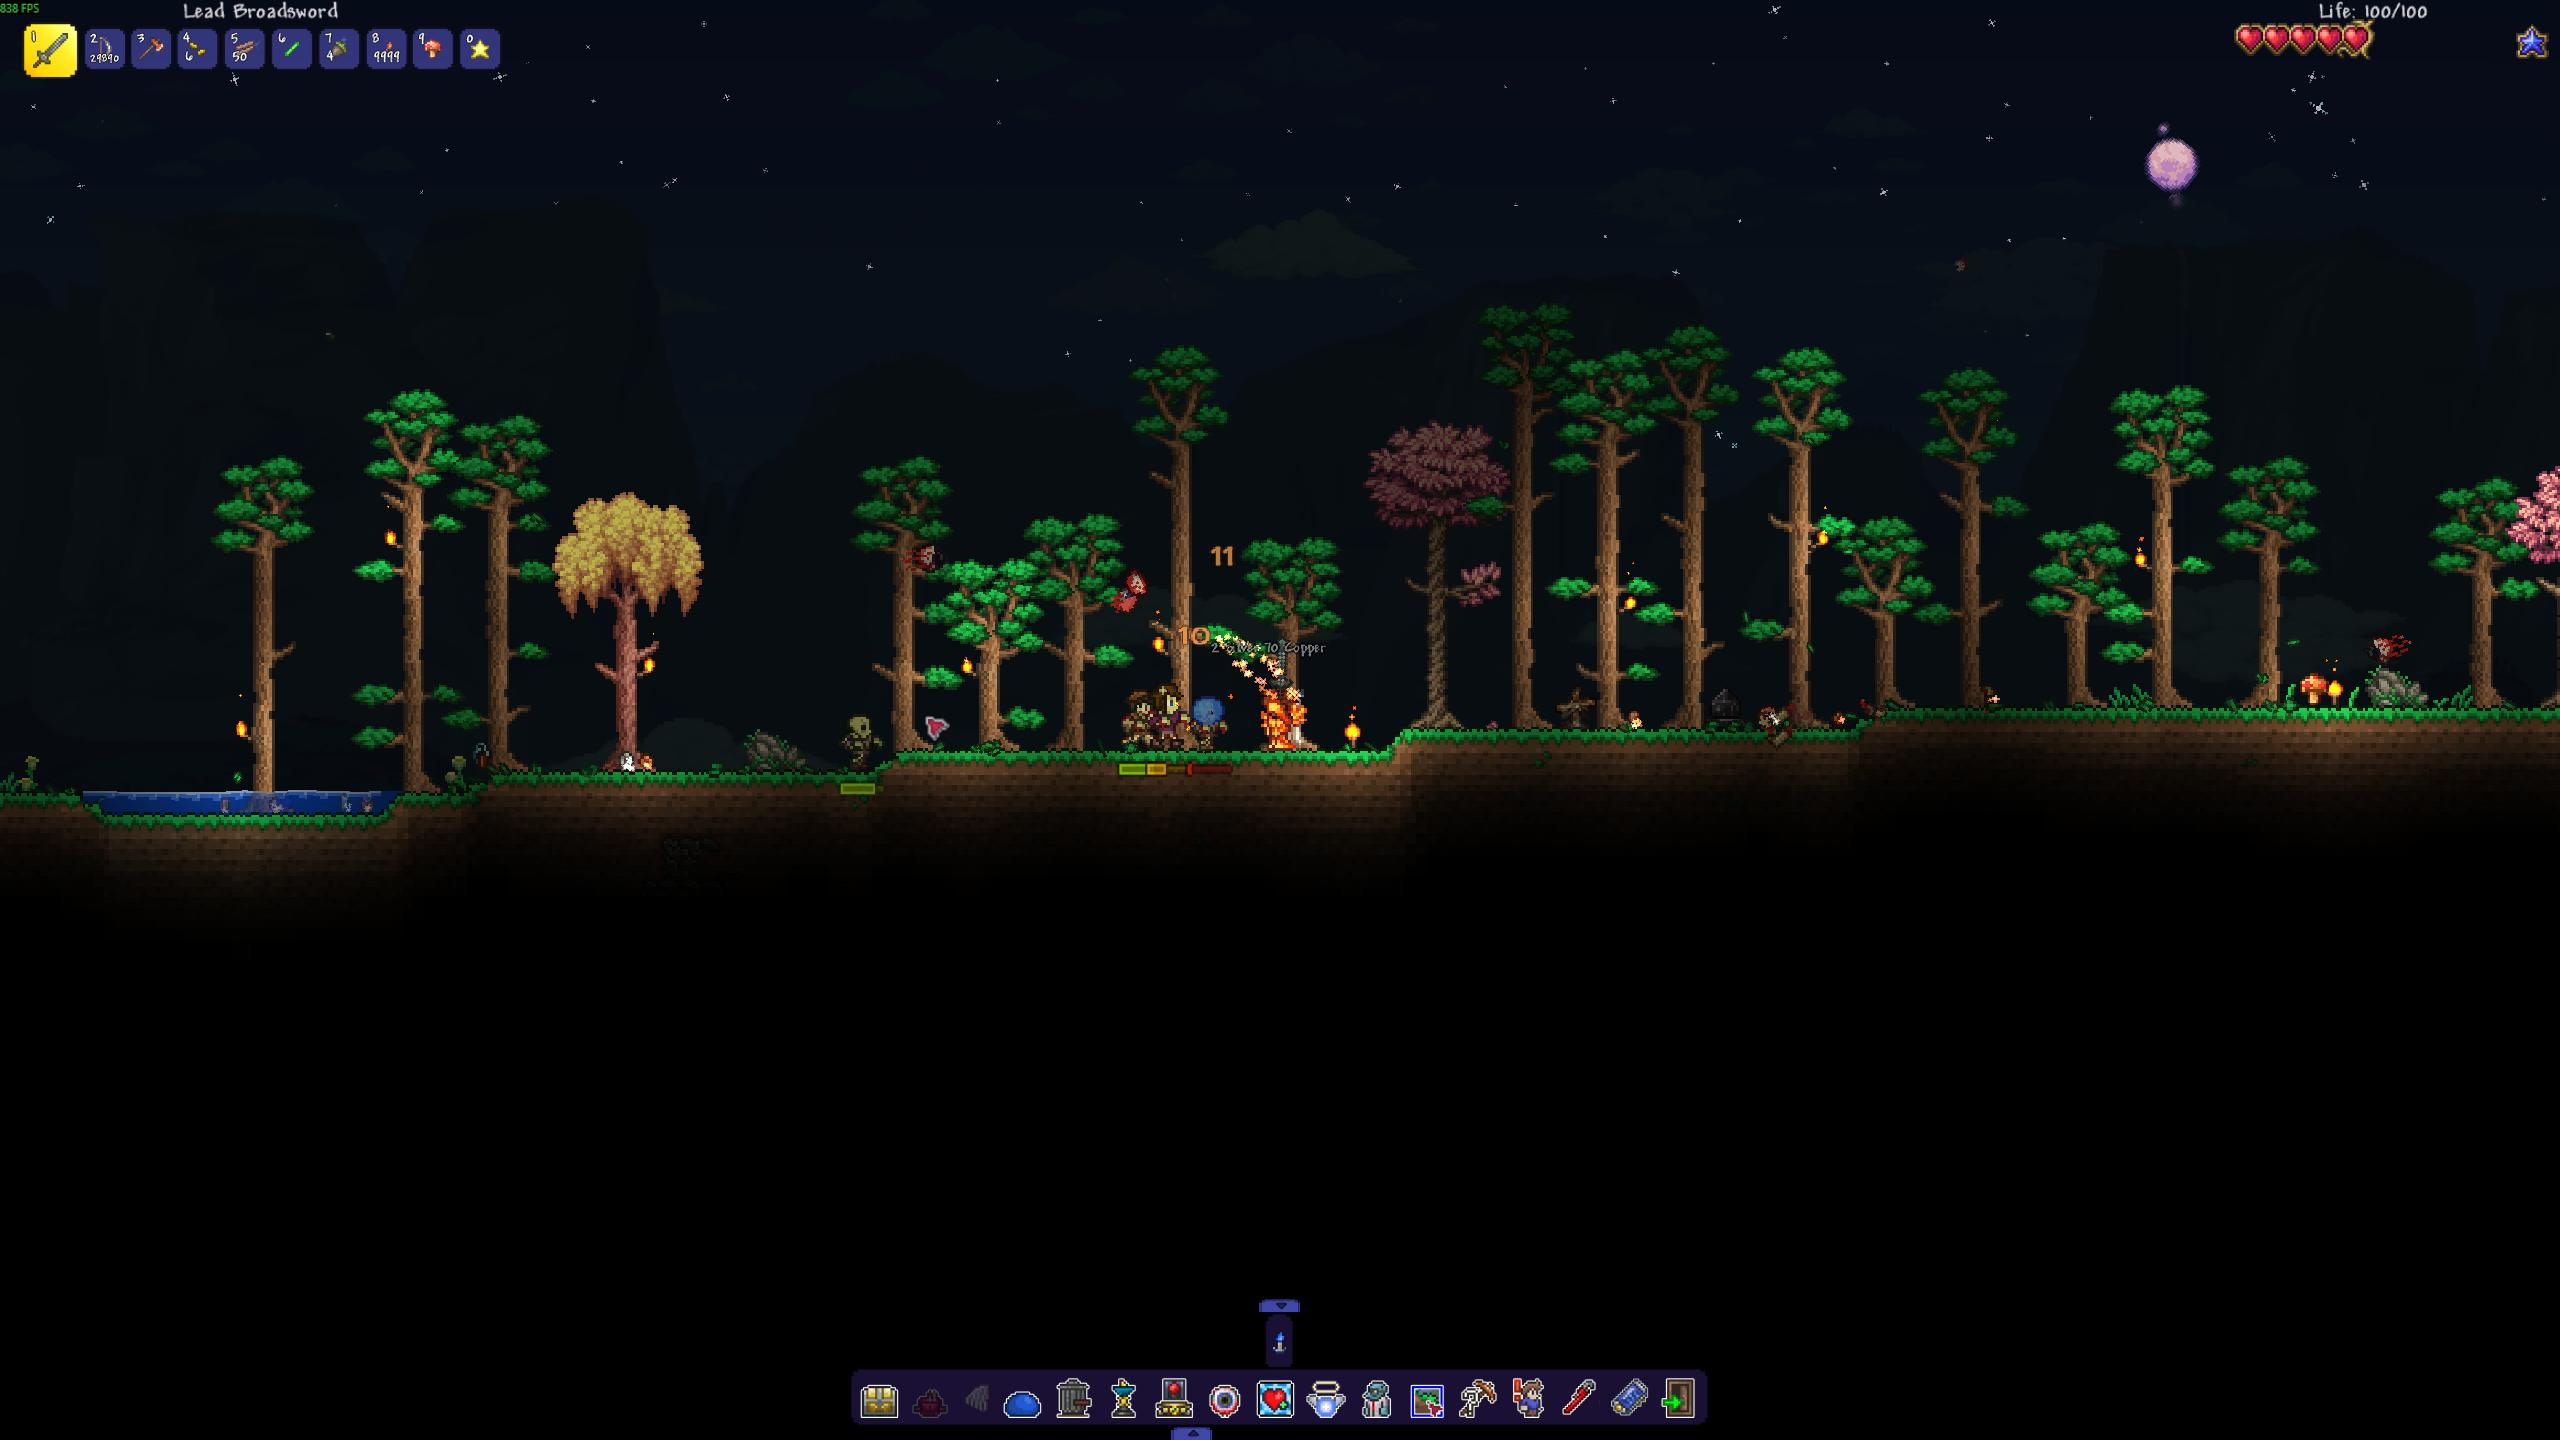Demon Eye: (2360, 631, 2416, 665), (893, 536, 942, 571)
Zombie: (839, 709, 881, 768), (1120, 691, 1157, 751), (1155, 679, 1185, 749), (1192, 691, 1227, 749)
